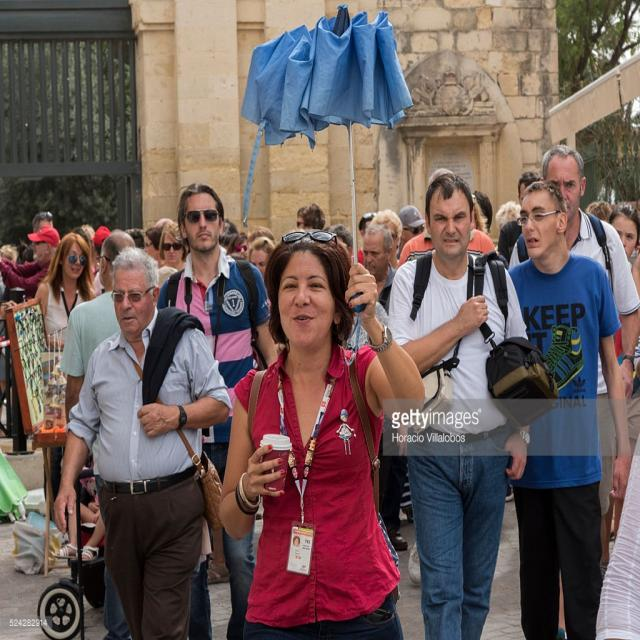body: (215, 230, 429, 639), (47, 242, 235, 640), (387, 172, 534, 640), (507, 142, 640, 640), (500, 177, 634, 640), (156, 183, 280, 638), (32, 231, 98, 536), (358, 222, 411, 554), (62, 233, 139, 429), (610, 199, 640, 534), (0, 242, 30, 444), (54, 468, 106, 565), (495, 165, 545, 264), (0, 223, 61, 304), (593, 496, 625, 639), (625, 358, 639, 638), (218, 214, 276, 275), (398, 451, 424, 586), (388, 203, 434, 269), (469, 187, 494, 262), (157, 218, 190, 272), (123, 225, 162, 265), (207, 526, 230, 592), (285, 202, 329, 234), (87, 242, 104, 296), (24, 206, 58, 233), (70, 221, 110, 243), (328, 220, 353, 255), (578, 199, 610, 225), (358, 207, 388, 230), (429, 163, 452, 188), (152, 213, 180, 227), (504, 482, 515, 505)
